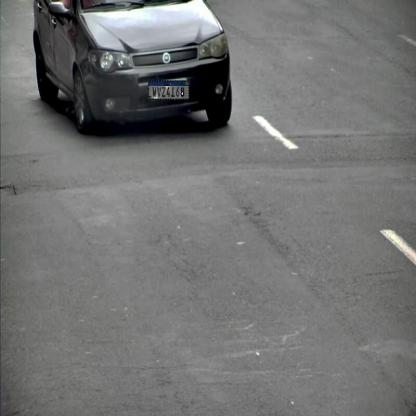PlacaM: (148, 80, 189, 100)
